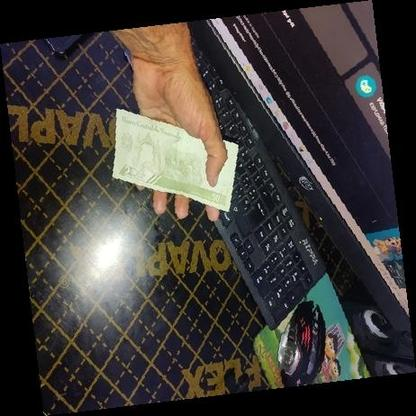dollar_back: (111, 108, 240, 212)
